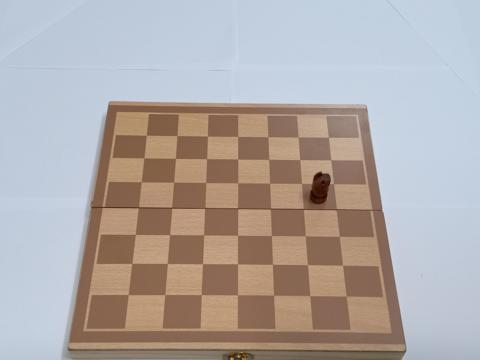xcorner: (135, 176, 145, 186), (132, 202, 142, 212), (168, 176, 178, 186), (166, 202, 176, 212), (159, 291, 169, 301), (198, 230, 208, 240), (196, 291, 206, 301), (233, 203, 243, 213), (233, 260, 243, 270), (263, 130, 273, 140), (264, 153, 274, 163), (266, 203, 276, 213), (267, 231, 277, 241), (297, 178, 307, 188), (343, 292, 353, 302), (141, 129, 151, 138), (138, 152, 148, 161), (129, 230, 139, 239), (126, 259, 135, 269), (122, 291, 131, 301), (172, 129, 181, 139), (170, 152, 179, 162), (164, 230, 173, 240), (161, 260, 171, 269), (202, 130, 212, 139), (201, 153, 211, 162), (200, 177, 210, 186), (197, 260, 207, 269), (233, 130, 242, 140), (233, 177, 242, 187), (233, 231, 243, 240), (233, 292, 243, 301), (265, 178, 275, 187), (269, 260, 278, 270), (270, 292, 280, 301), (295, 154, 305, 163), (302, 231, 311, 241), (304, 261, 314, 270), (307, 292, 316, 302), (324, 131, 333, 141), (327, 154, 336, 164), (330, 178, 339, 188), (333, 204, 342, 214), (336, 232, 346, 241), (200, 203, 209, 212), (233, 153, 242, 162), (294, 131, 303, 140), (300, 204, 309, 213), (340, 261, 349, 270)
